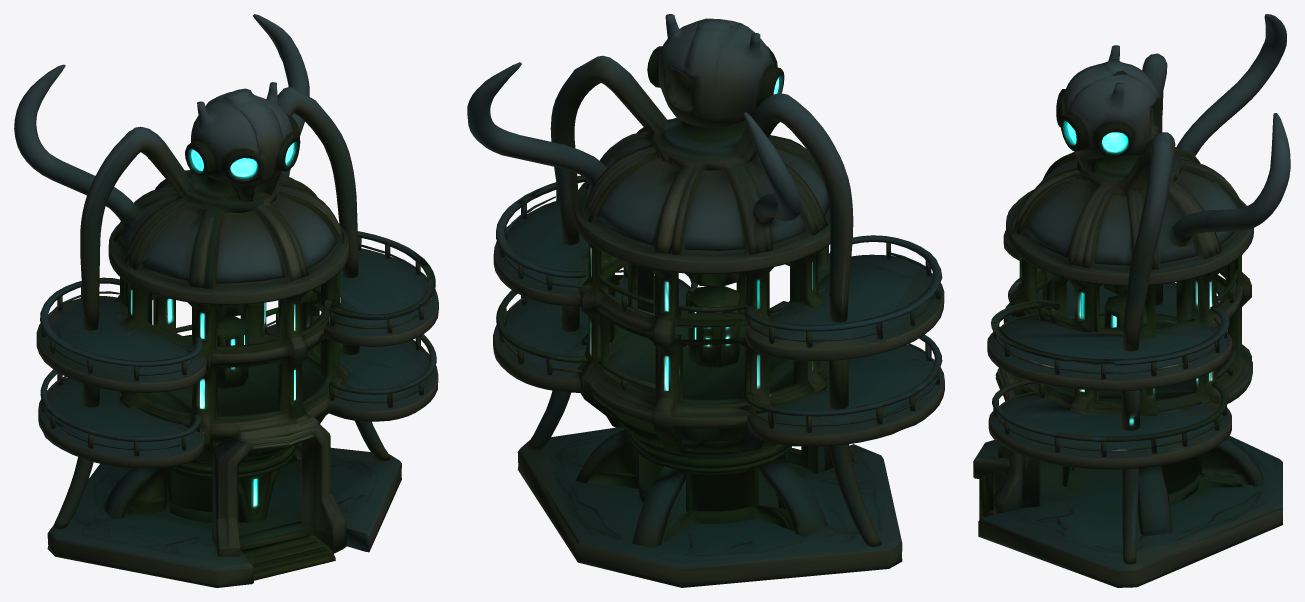
Rendered from VAL_EVIL_ALIEN_BASE_OS_MML_FINAL3.glb.
3 renders of one model, left to right at view 1: azimuth 30°, elevation 25°; view 2: azimuth 150°, elevation 25°; view 3: azimuth 270°, elevation 25°, orthographic. The views are drawn at different scales.
Visible parts, largest first — view 1: material; view 2: material; view 3: material.
Boxes of the visible parts, box(x1,y1,x2,y2) form: material: box(14, 14, 438, 587); material: box(467, 14, 944, 587); material: box(973, 14, 1290, 587).
Size of the model in its own units: 4.5 by 5 by 3.27.
Materials: 1 (1 with a texture image).
